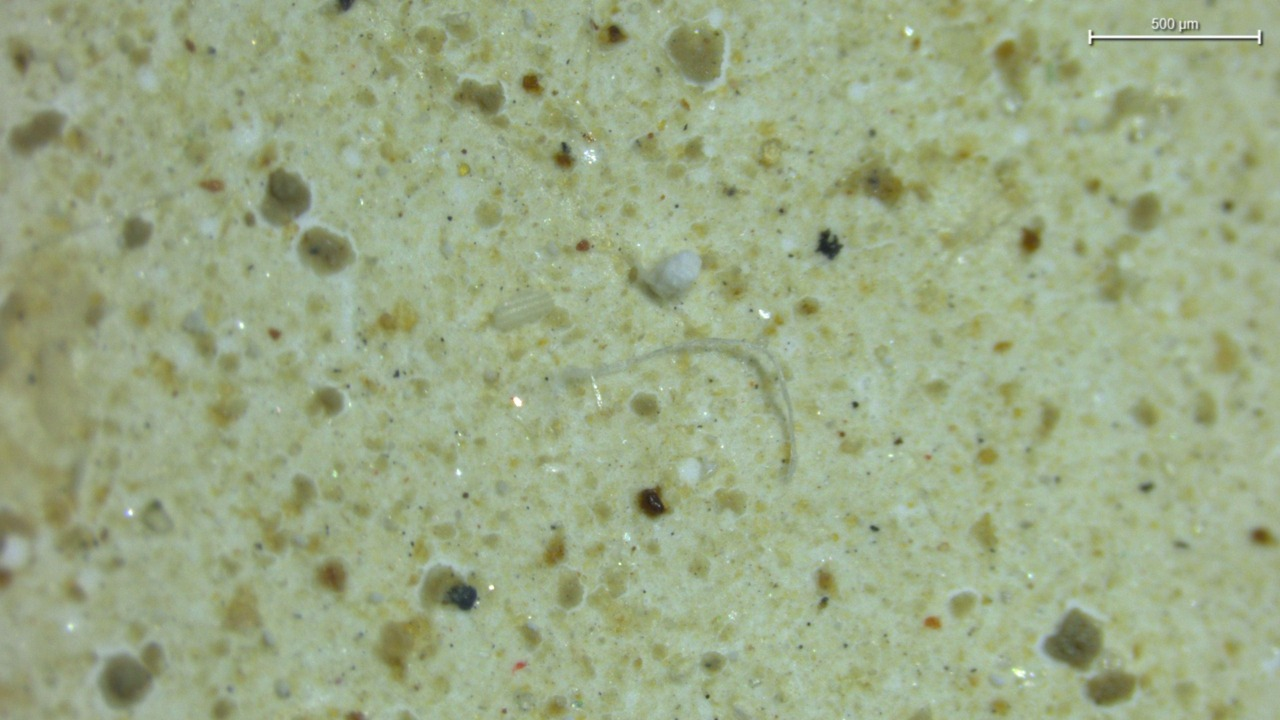microplastic_fragment: (637, 250, 701, 301), (493, 292, 555, 329)
